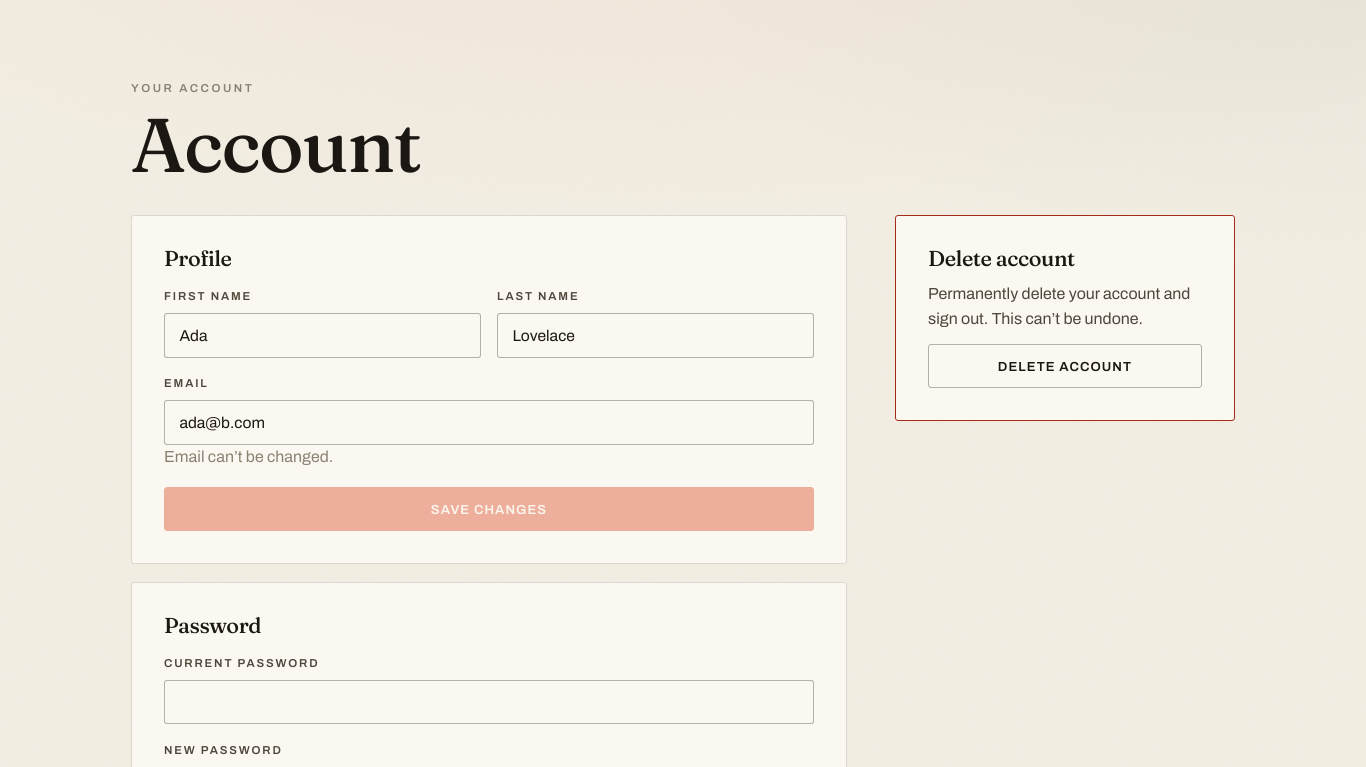
Test: AccountPage › changes the password and adopts the fresh session the server returns
In the password field labelled "Current password": (489, 702) 164,680 -> 814,724, type "old-secret"
(page scrolled)
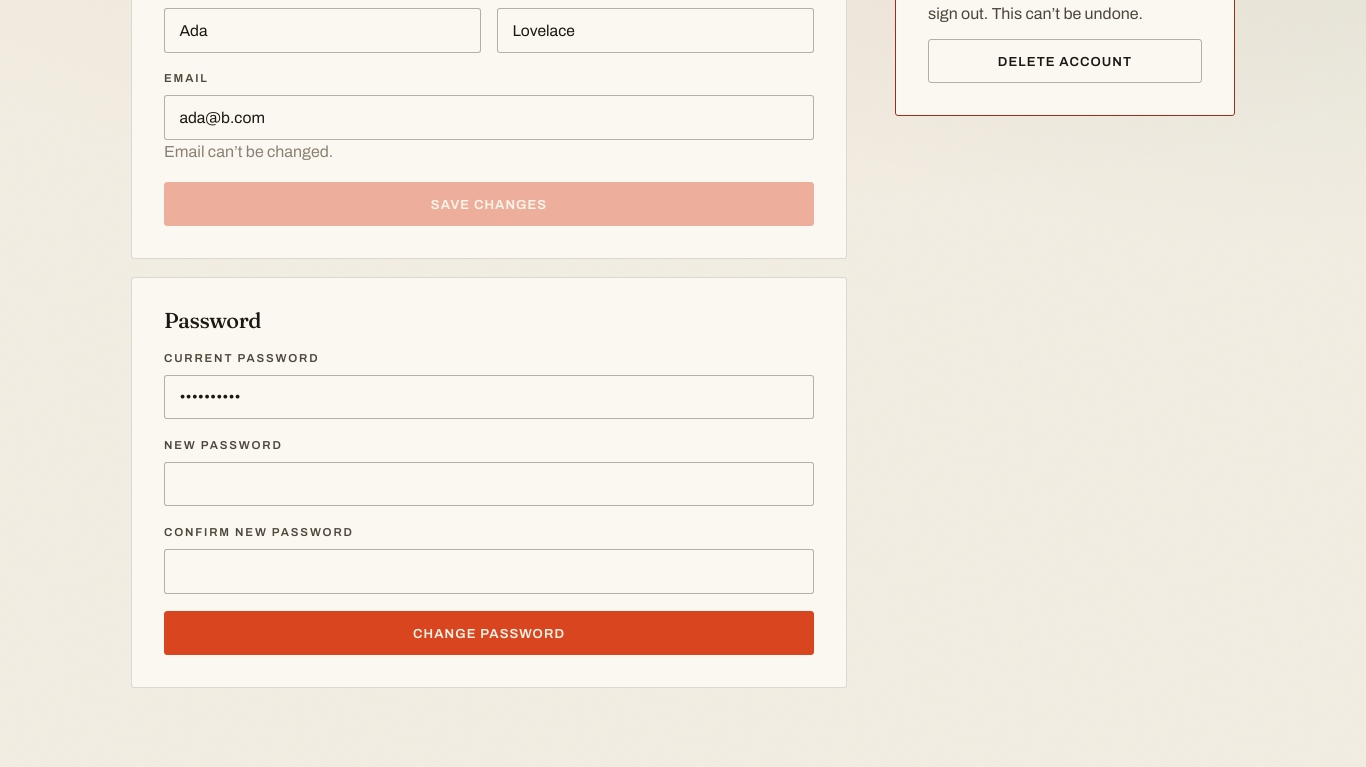
In the password field labelled "New password": (489, 484) 164,462 -> 814,506, type "new-secret"
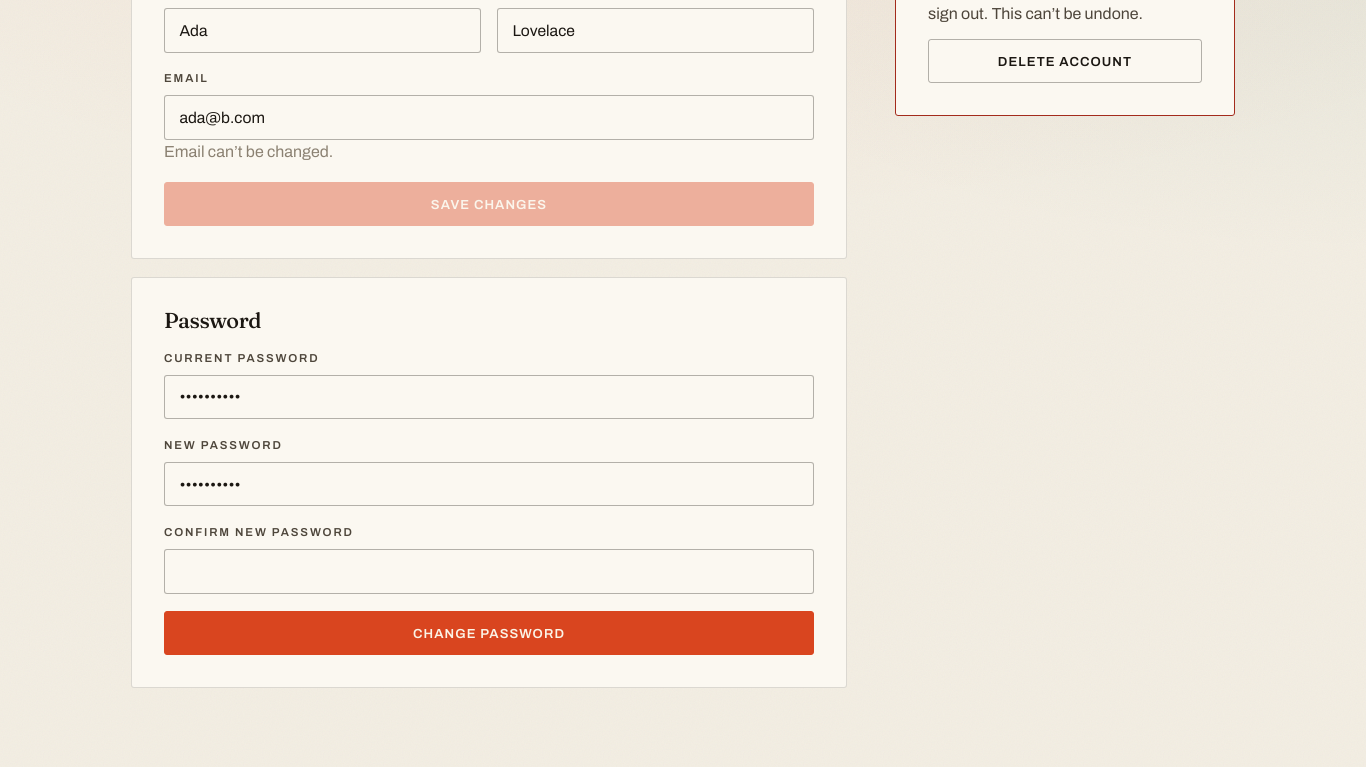
In the password field labelled "Confirm new password": (489, 571) 164,549 -> 814,594, type "new-secret"
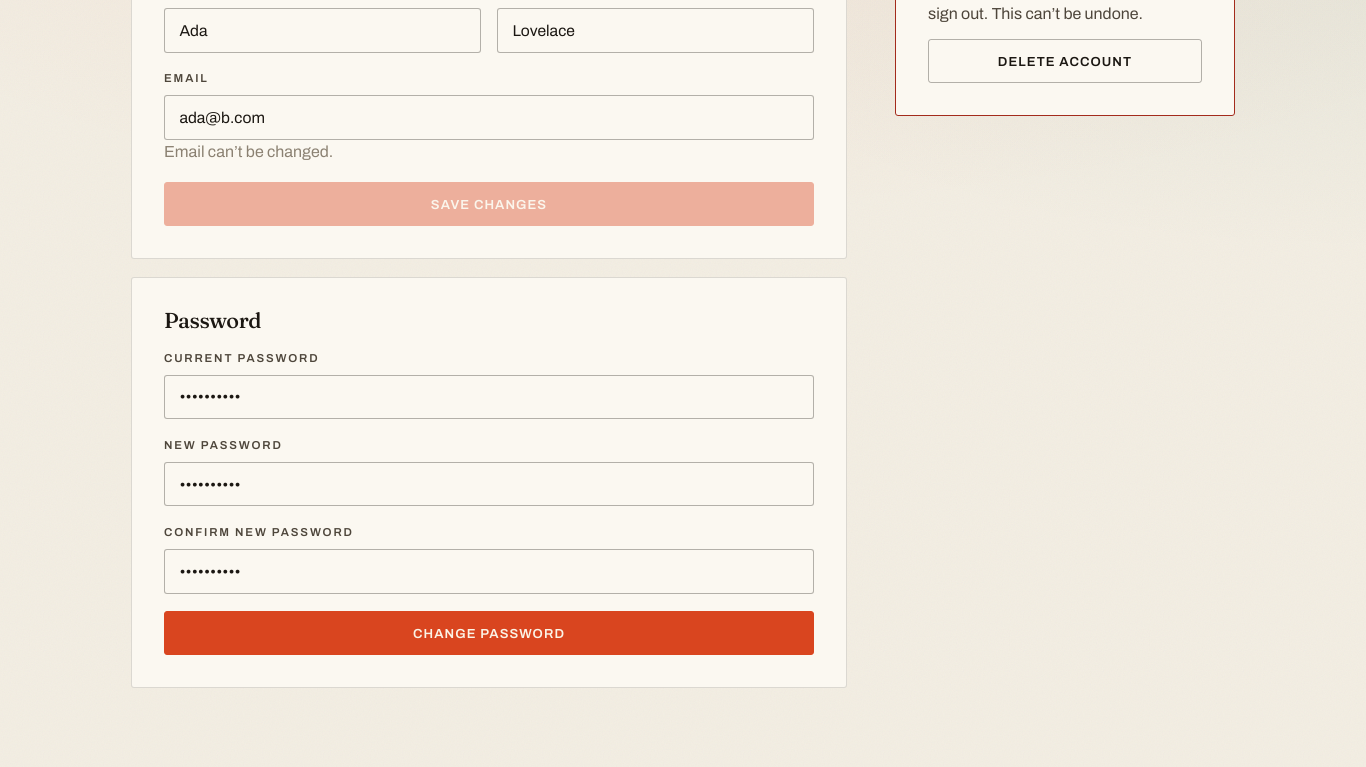
Click the button "Change password": (489, 633) 164,611 -> 814,656
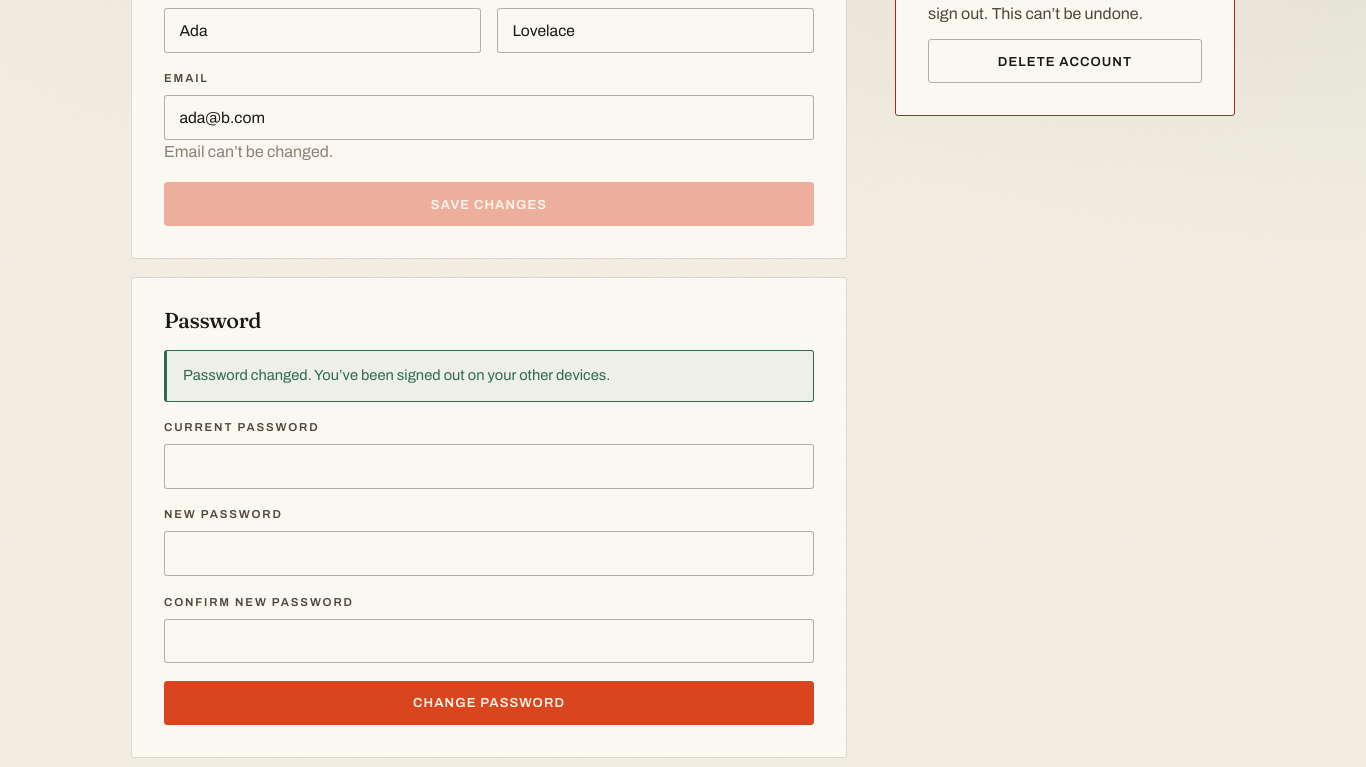
Expected: the text "Password changed. You’ve been signed out on your other devices." is shown, 164,350 -> 814,402
Expected: the password field labelled "Current password" is empty, 164,444 -> 814,489
